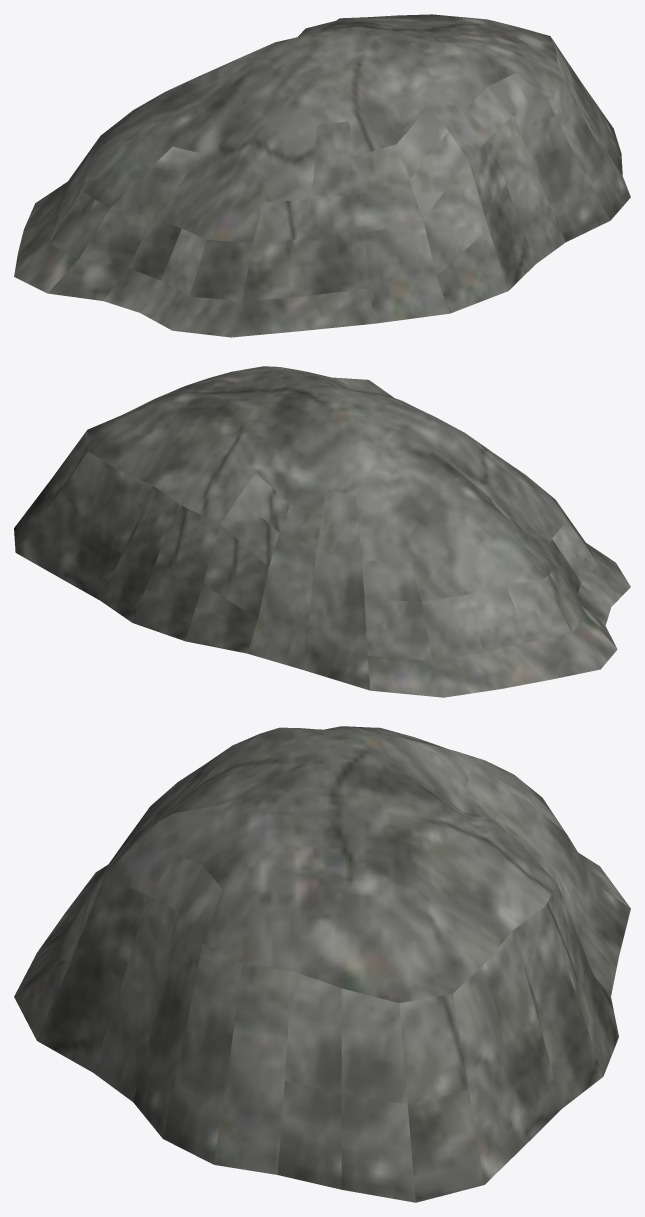
Rendered from nyc_rock_hump.glb.
3 views of the same model, one above another, from view 1: azimuth 30°, elevation 25°; view 2: azimuth 150°, elevation 25°; view 3: azimuth 270°, elevation 25° (orthographic). The views are drawn at different scales.
Visible parts, largest first — view 1: nyc_rock_hump; view 2: nyc_rock_hump; view 3: nyc_rock_hump.
Boxes of the visible parts, x1,y1,x2,y2 form: nyc_rock_hump: (14, 14, 630, 337); nyc_rock_hump: (14, 366, 630, 697); nyc_rock_hump: (14, 726, 630, 1202).
Bounding box in the file's own units: 9.44 × 2.84 × 6.2.
Materials: 1 (1 with a texture image).
